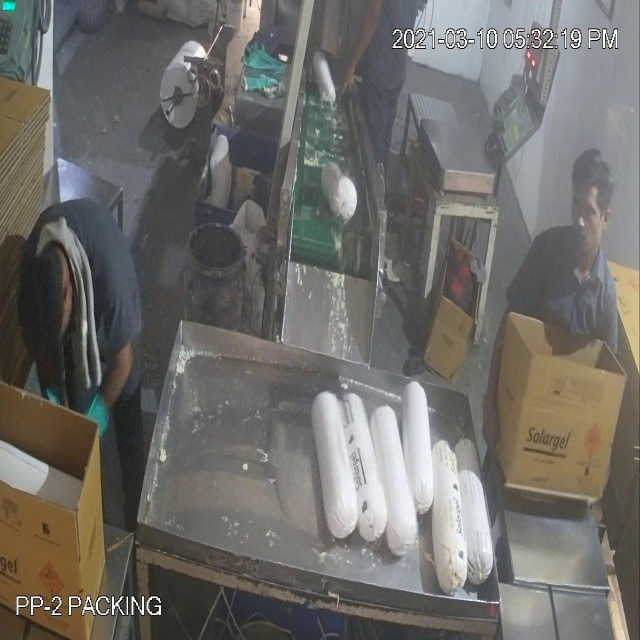Sin_guantes: (473, 269, 520, 470), (340, 1, 380, 116)
